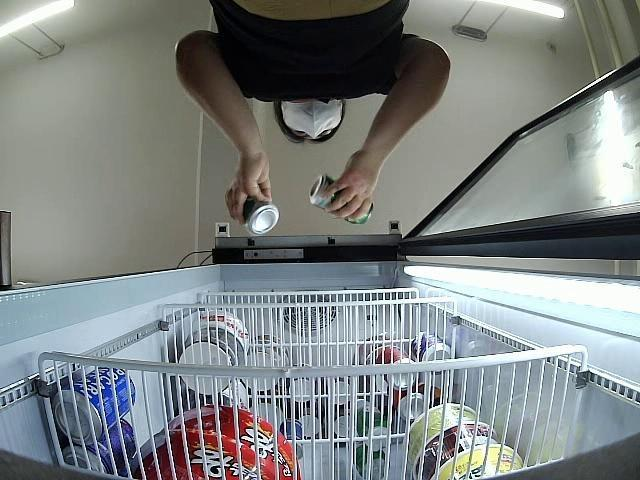12_chilsungCider: (309, 175, 374, 224), (238, 195, 280, 234)
